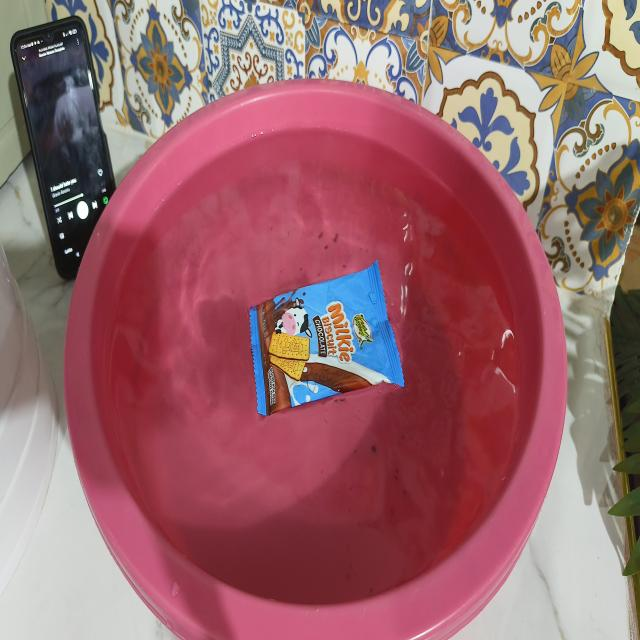Plastic Wrapper: (250, 261, 404, 415)
